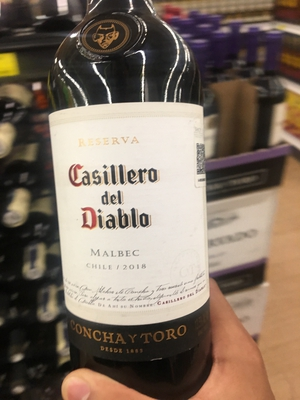casillero del diablo malbec: (43, 10, 228, 400)
